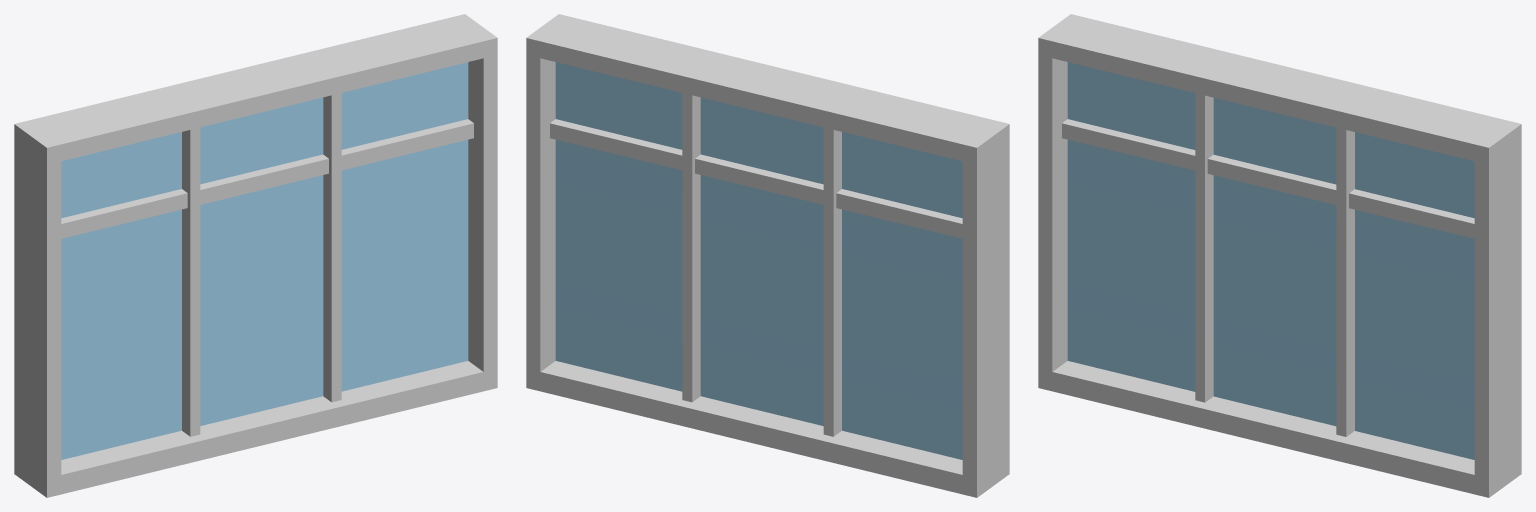
File: window_007.fbx
3 renders of one model, left to right at view 1: azimuth 30°, elevation 25°; view 2: azimuth 150°, elevation 25°; view 3: azimuth 330°, elevation 25°, orthographic.
Parts seen in each view (by area): view 1: window_007; view 2: window_007; view 3: window_007.
Part boxes in pixels (bbox=[...]): window_007: bbox=[14, 14, 497, 497]; window_007: bbox=[526, 14, 1009, 497]; window_007: bbox=[1038, 14, 1521, 497].
Bounding box in the file's own units: 225 × 28.28 × 167.
